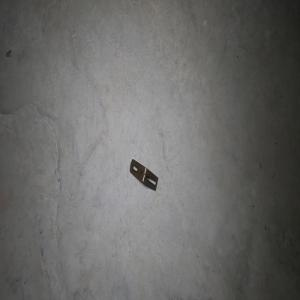MetalPart: (129, 157, 158, 191)
